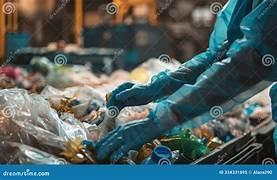Glove: (96, 103, 169, 160), (107, 71, 183, 110), (270, 83, 277, 122)
